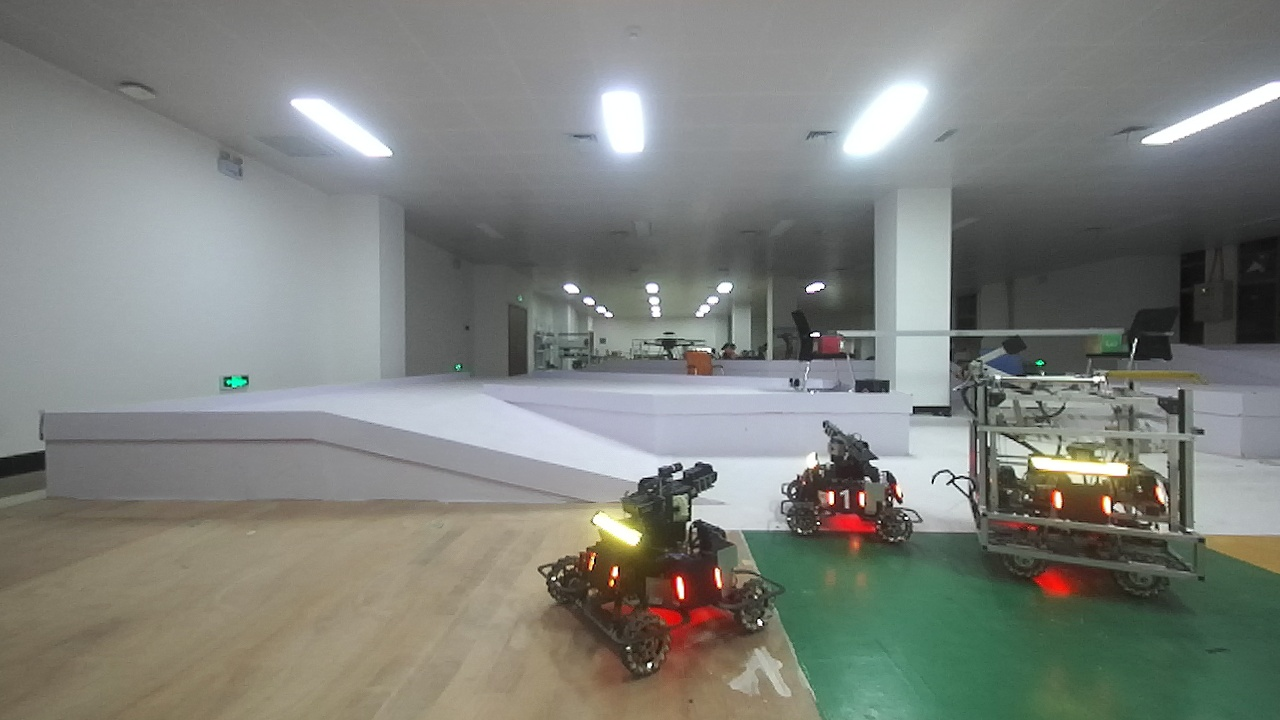car: (947, 339, 1230, 627), (530, 446, 782, 686), (779, 406, 933, 575)
